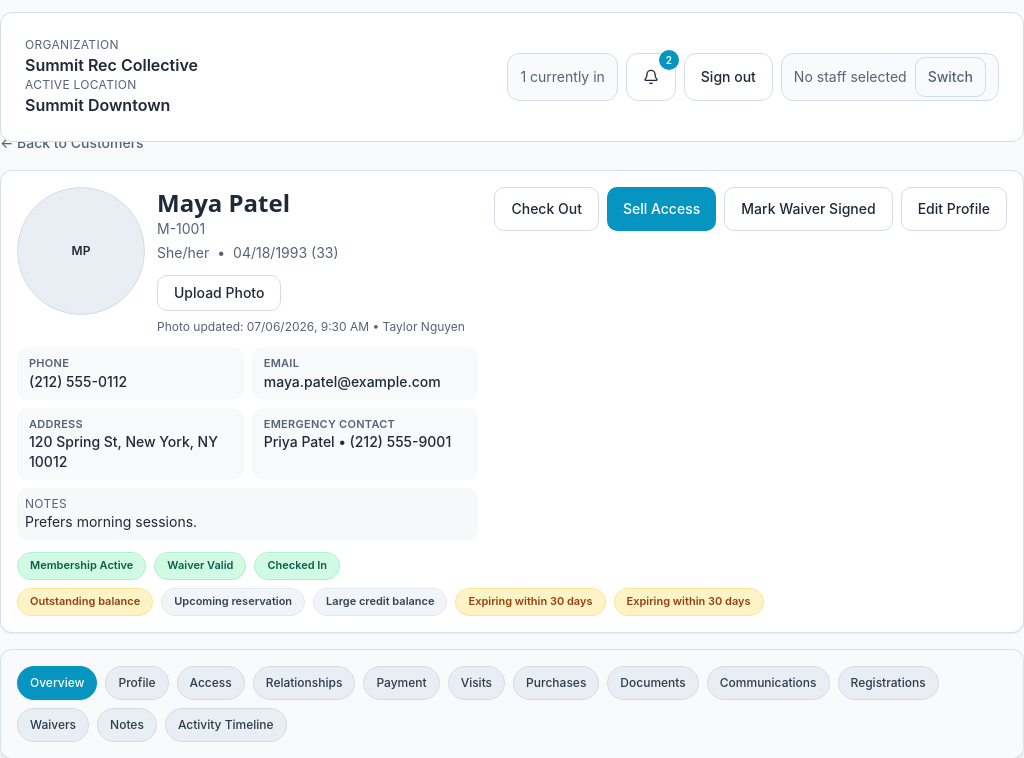
Scenario: CustomerDetailPage › pronouns and preferred name save and display in header summary
Click the button "Switch": [950, 77] box [915,57,986,97]
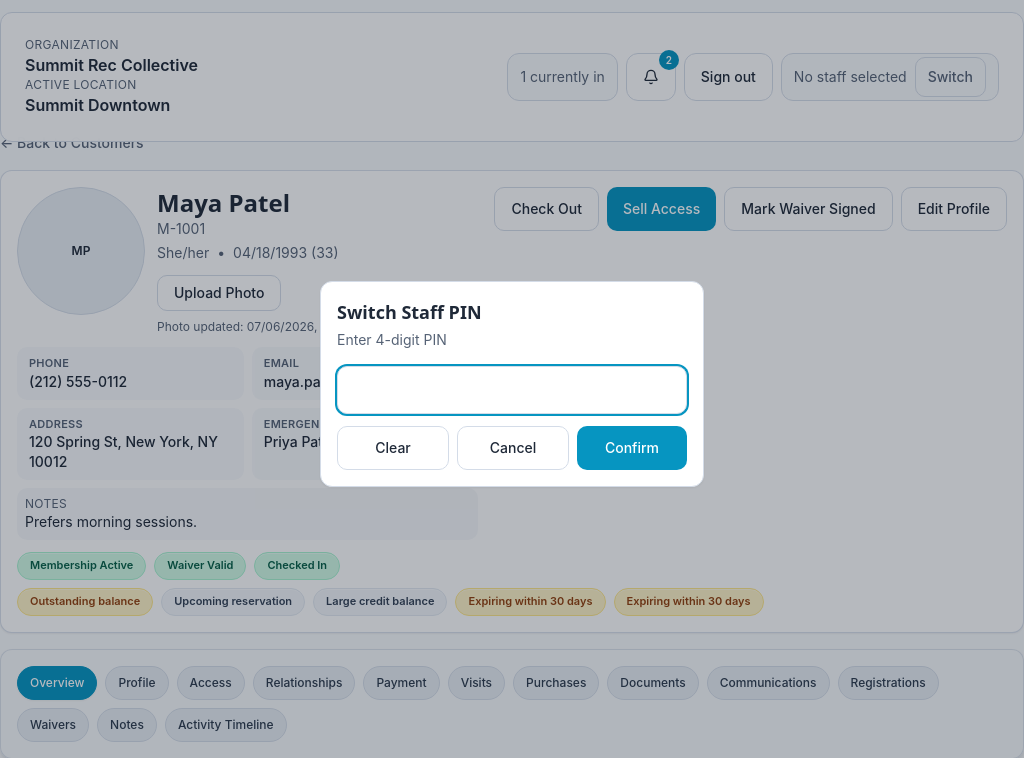
In the password field named "Staff PIN input": [512, 390] box [337,366,687,414], type "2222"
Click the button "Confirm": [632, 448] box [577,426,687,470]
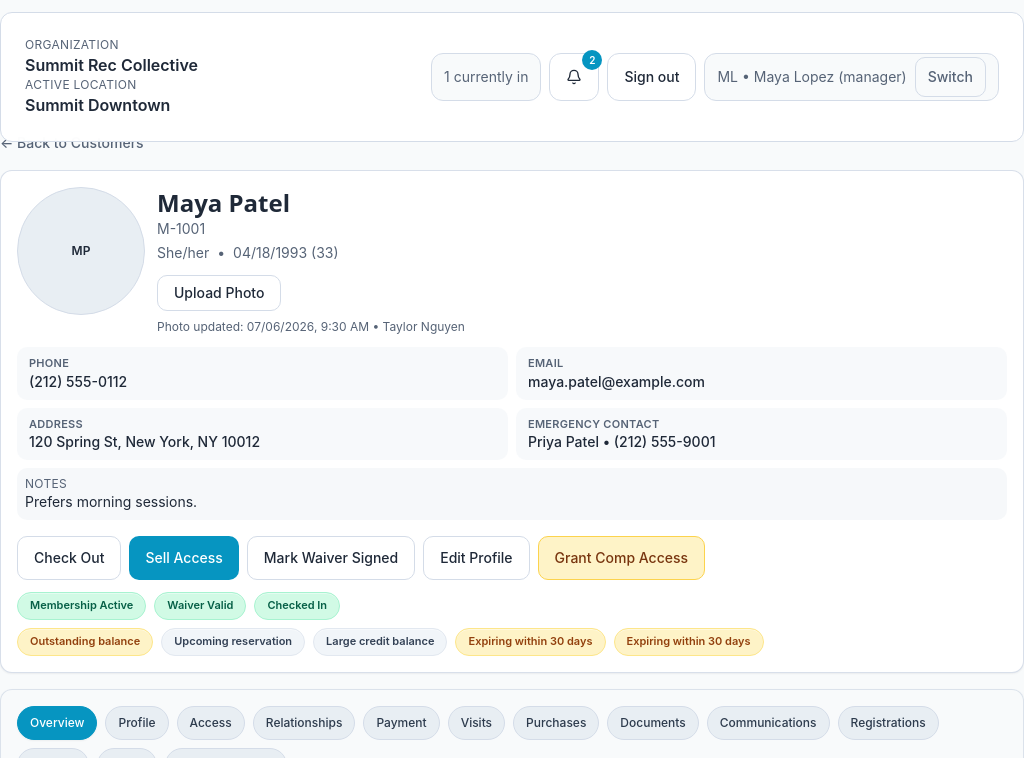
Click the button "Edit Profile": [476, 558] box [423,536,530,580]
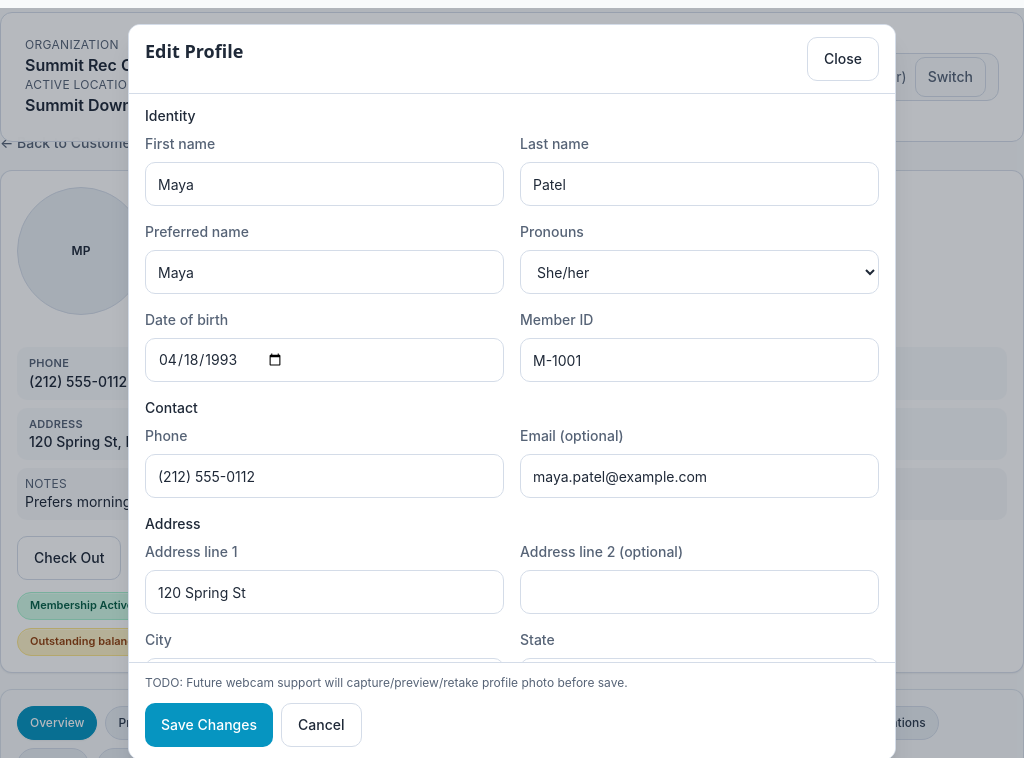
Replace the text in the field labelled "Preferred name" with "MJ": [324, 272] box [145,250,504,294]
Select "Custom" in the dropdown labelled "Pronouns": [700, 272] box [520,250,879,294]
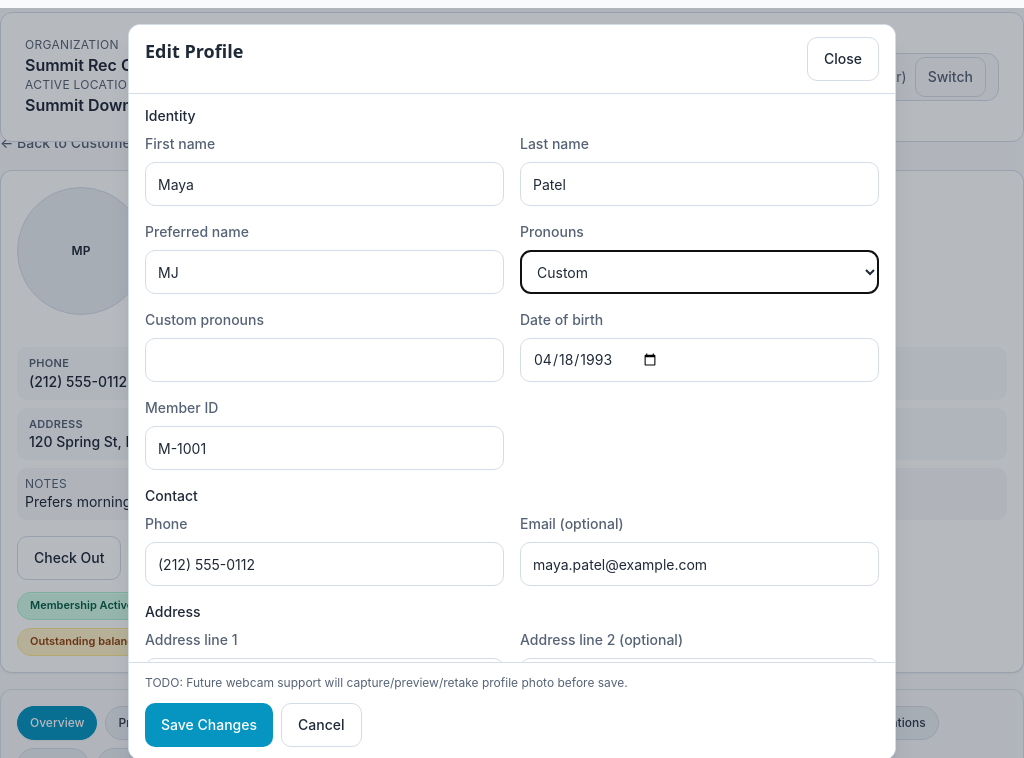
In the field labelled "Custom pronouns": [324, 360] box [145,338,504,382], type "xe/xem"
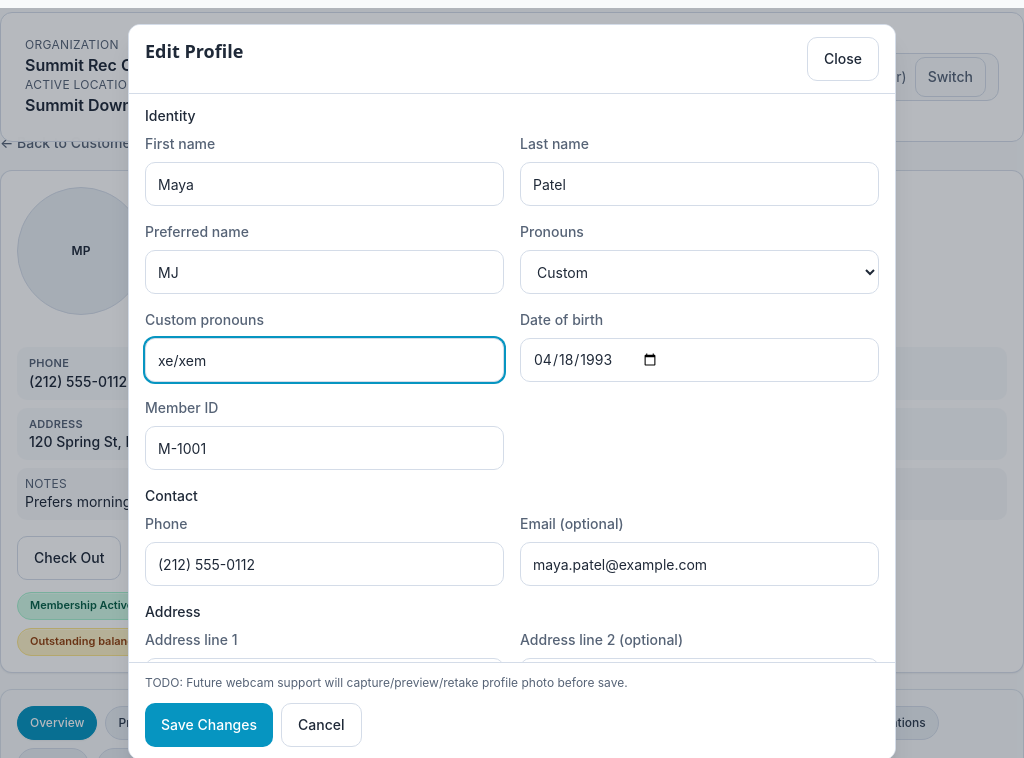
Click the button "Save Changes": [209, 725] box [145,703,273,747]
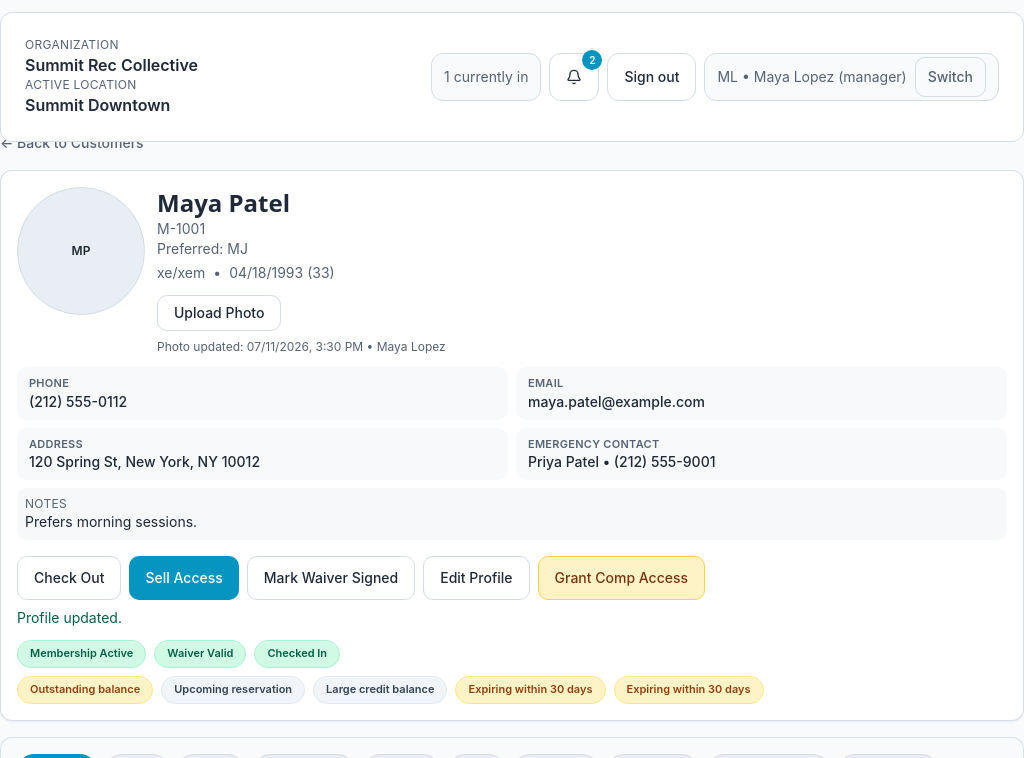
Expected: the element named "detail-header" shows "Preferred: MJ"
Expected: the element named "detail-header" shows "xe/xem", [157,264,205,281]
